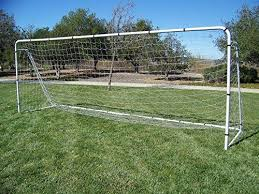goal: (14, 24, 231, 151)
